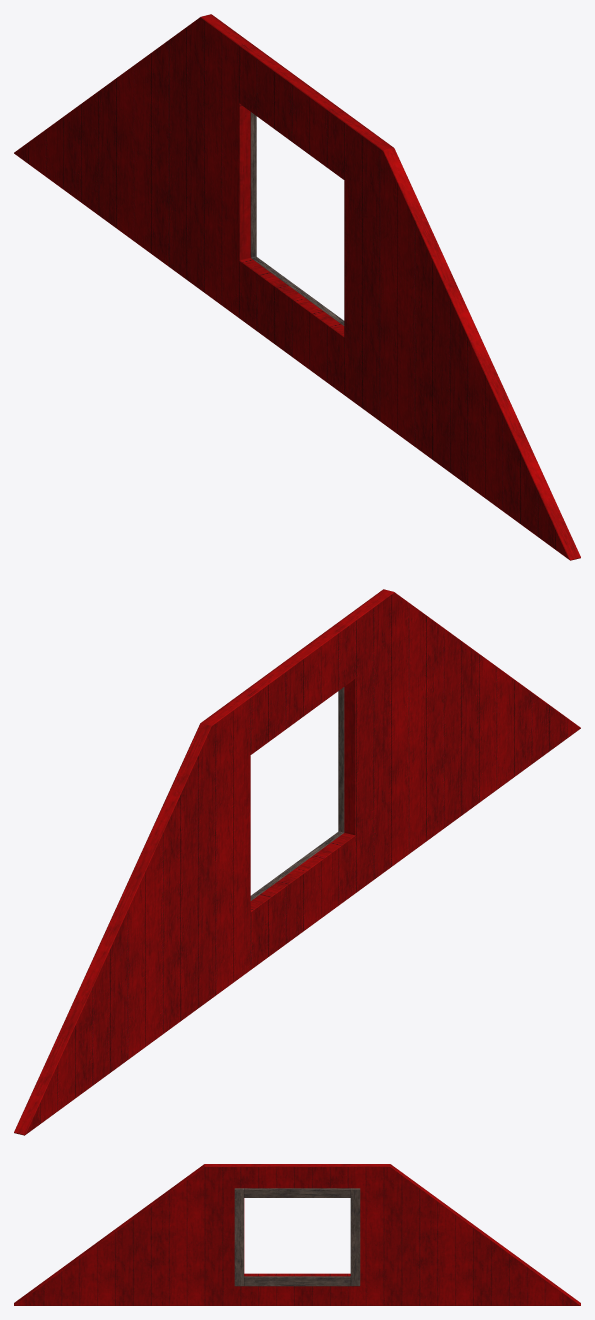
The model's file is StableWall_FrontWindow_LP.glb.
The picture shows the model from 3 angles, top to bottom: view 1: azimuth 30°, elevation 25°; view 2: azimuth 150°, elevation 25°; view 3: azimuth 270°, elevation 25°; orthographic projection. The views are drawn at different scales.
Parts seen in each view (by area): view 1: StableWall_FrontWindow_LP; view 2: StableWall_FrontWindow_LP; view 3: StableWall_FrontWindow_LP.
Part boxes in pixels (x1=…): StableWall_FrontWindow_LP: x1=14, y1=14, x2=580, y2=560; StableWall_FrontWindow_LP: x1=14, y1=589, x2=580, y2=1135; StableWall_FrontWindow_LP: x1=14, y1=1164, x2=580, y2=1305.
Bounding box in the file's own units: 0.2339 × 3.52 × 12.98.
1 material, 1 textured.
